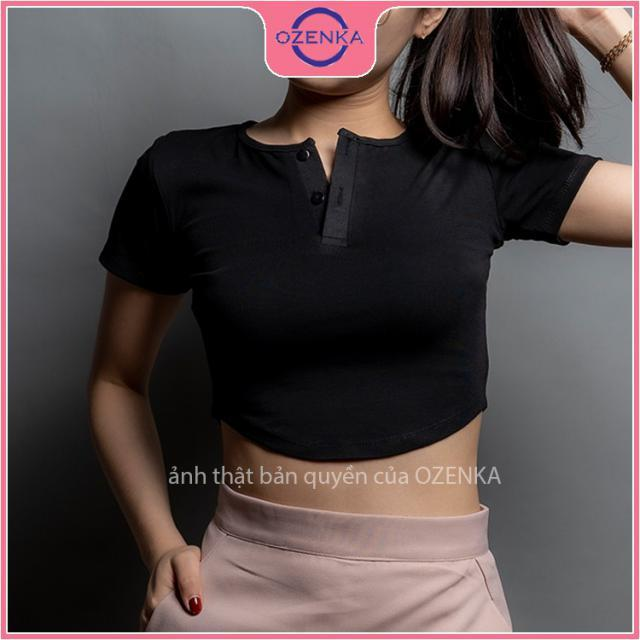Shirt: (96, 108, 612, 470)
